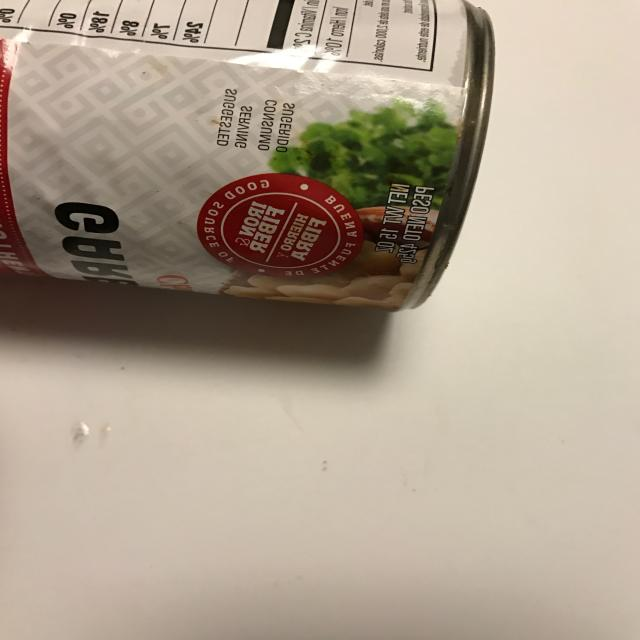metal: (0, 0, 497, 313)
